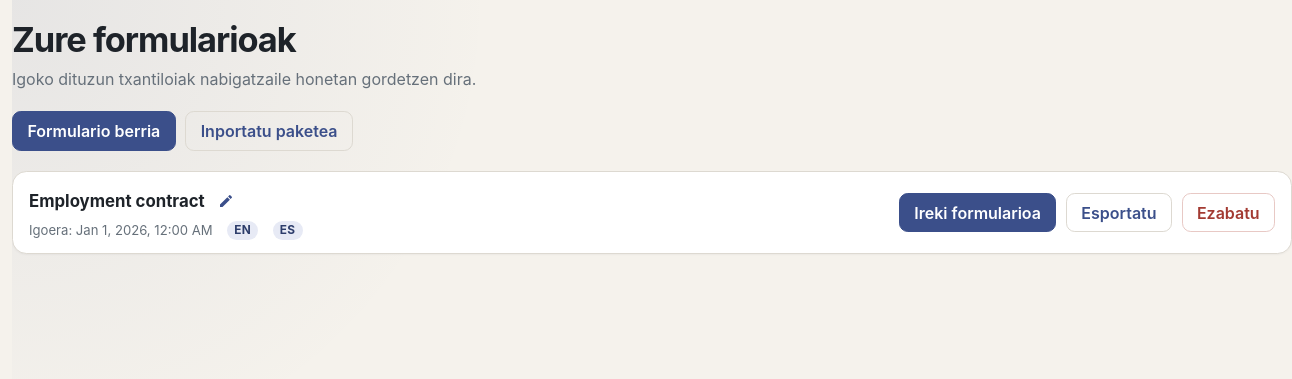
it: LibraryPage › localizes rename failures in Basque
This screenshot has width=1292, height=379.
Step 1. Click the button named "Izena aldatu" → (226, 201), box [211, 186, 242, 216]
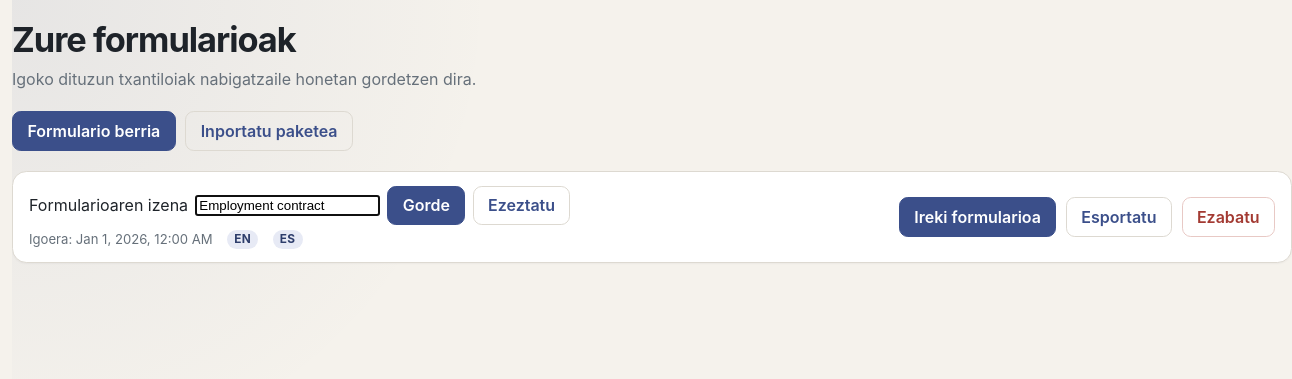
Step 2. Replace the text in the field labelled "Formularioaren izena" with "Berria" → (288, 205), box [195, 195, 380, 216]
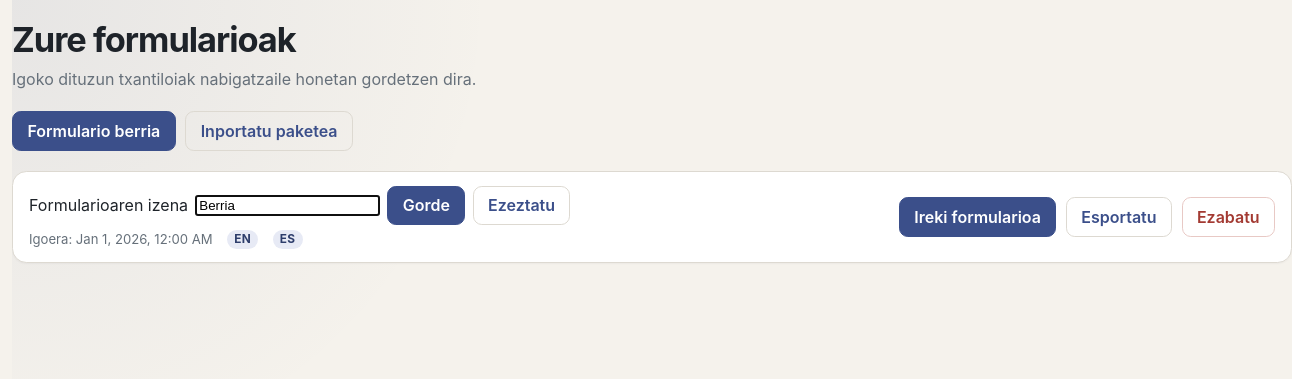
Step 3. Click the button "Gorde" → (426, 205), box [388, 186, 466, 225]
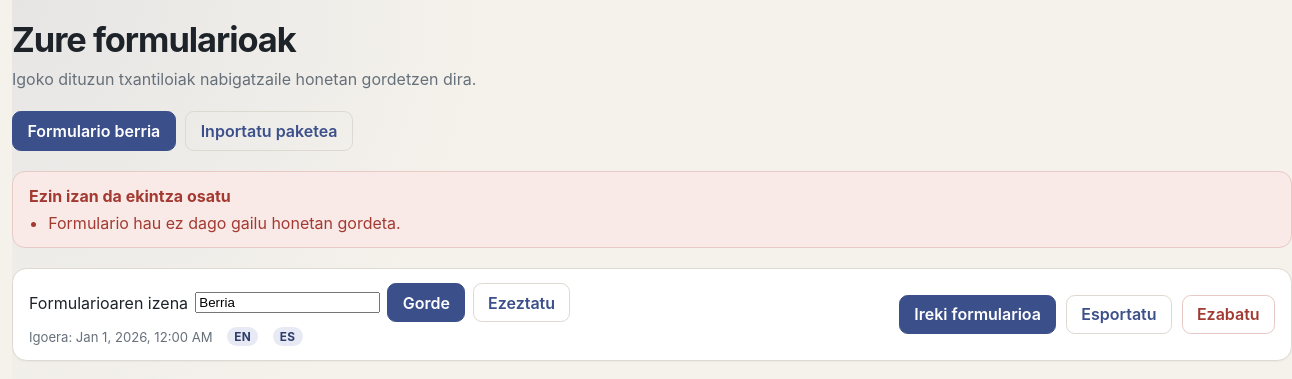
Expected: the list item "Formulario hau ez dago gailu honetan gordeta." is shown, [48, 213, 401, 233]
